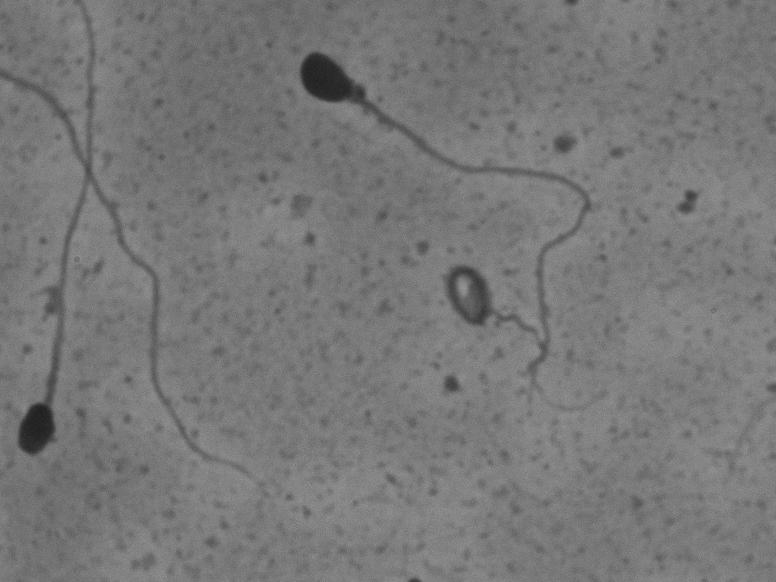Abnormal: (255, 29, 649, 451), (11, 15, 117, 492)
